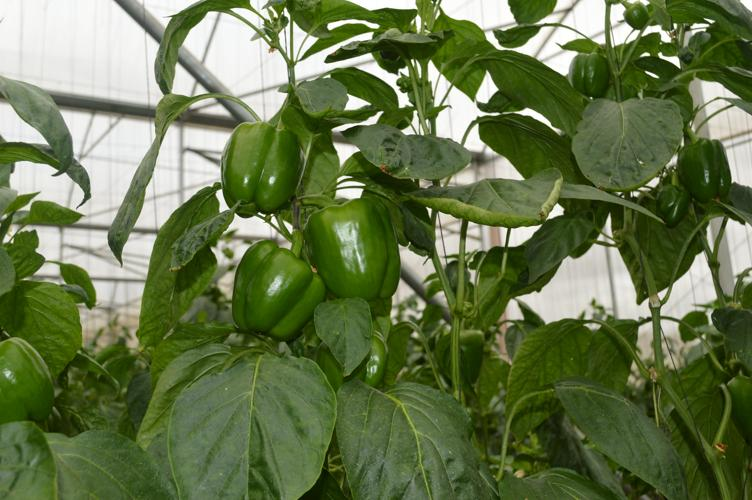BellPepper: (215, 227, 320, 335), (208, 116, 311, 218), (305, 197, 400, 300), (1, 337, 58, 434), (674, 132, 743, 212), (559, 45, 615, 106), (445, 324, 494, 388)
